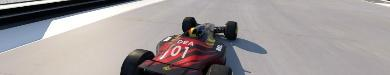Car: (119, 17, 238, 74)
